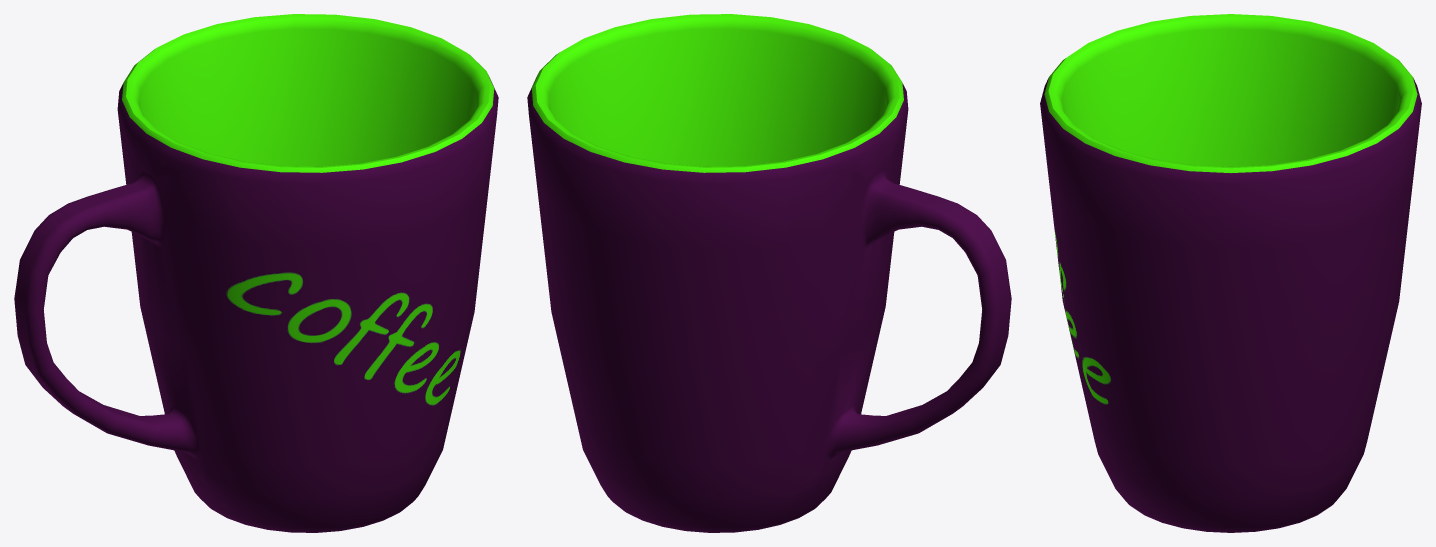
Rendered from scene_cup_c.glb.
3 renders of one model, left to right at view 1: azimuth 30°, elevation 25°; view 2: azimuth 150°, elevation 25°; view 3: azimuth 270°, elevation 25°, orthographic.
Visible parts, largest first — view 1: Cup; view 2: Cup; view 3: Cup.
Part boxes in pixels (left/top/right/bottom): Cup: left=14, top=14, right=498, bottom=532; Cup: left=527, top=14, right=1011, bottom=532; Cup: left=1040, top=14, right=1421, bottom=532.
Bounding box in the file's own units: 259 × 217 × 189.
Materials: 2 (2 with a texture image).
